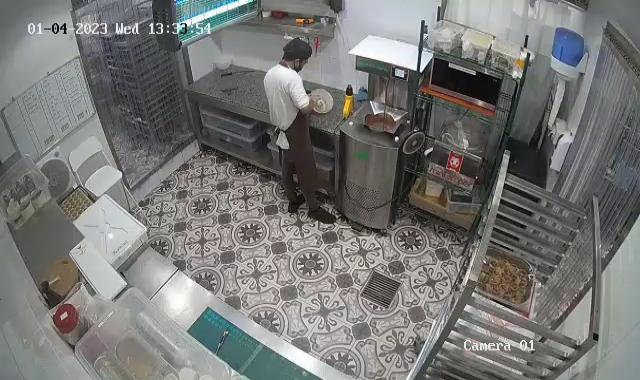no_hairnet: (280, 37, 312, 64)
